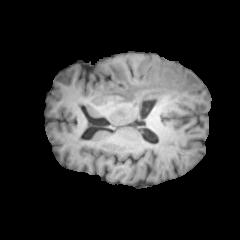glioma: (101, 57, 199, 124)
